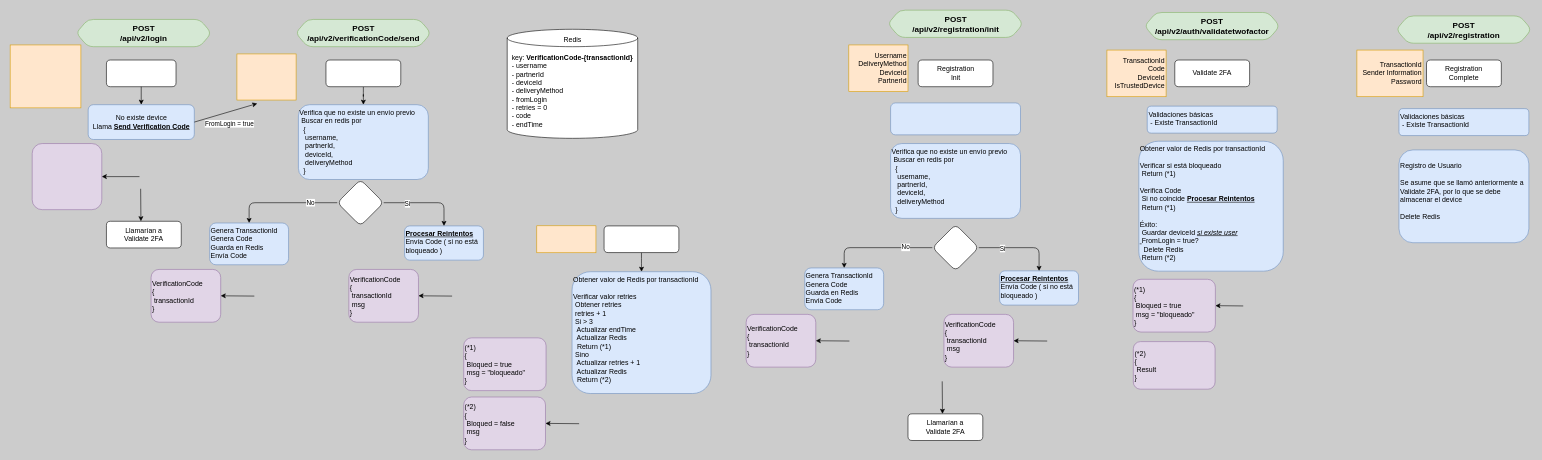
The diagram is 1542 pixels wide and 460 high, and some of its shapes have lost their labels. The shapes that lost their labels are listed below. From the top down, each one's box as (x1, y1, x2, y2) in pixels, then its label:
(10, 44, 81, 108): Username Password DeviceId PartnerId DeliveryMethod LoginType
(106, 59, 176, 87): Login ( no existe device )
(236, 53, 296, 100): Username DeliveryMethod DeviceId PartnerId FromLogin
(325, 59, 401, 87): Send Verification Code
(890, 102, 1021, 135): Validaciones básicas - No existe username-partnerId - Etc
(32, 143, 102, 210): Token VerificationCode { transactionId msg }
(536, 225, 596, 253): TransactionId
(603, 225, 679, 253): Procesar Reintentos
